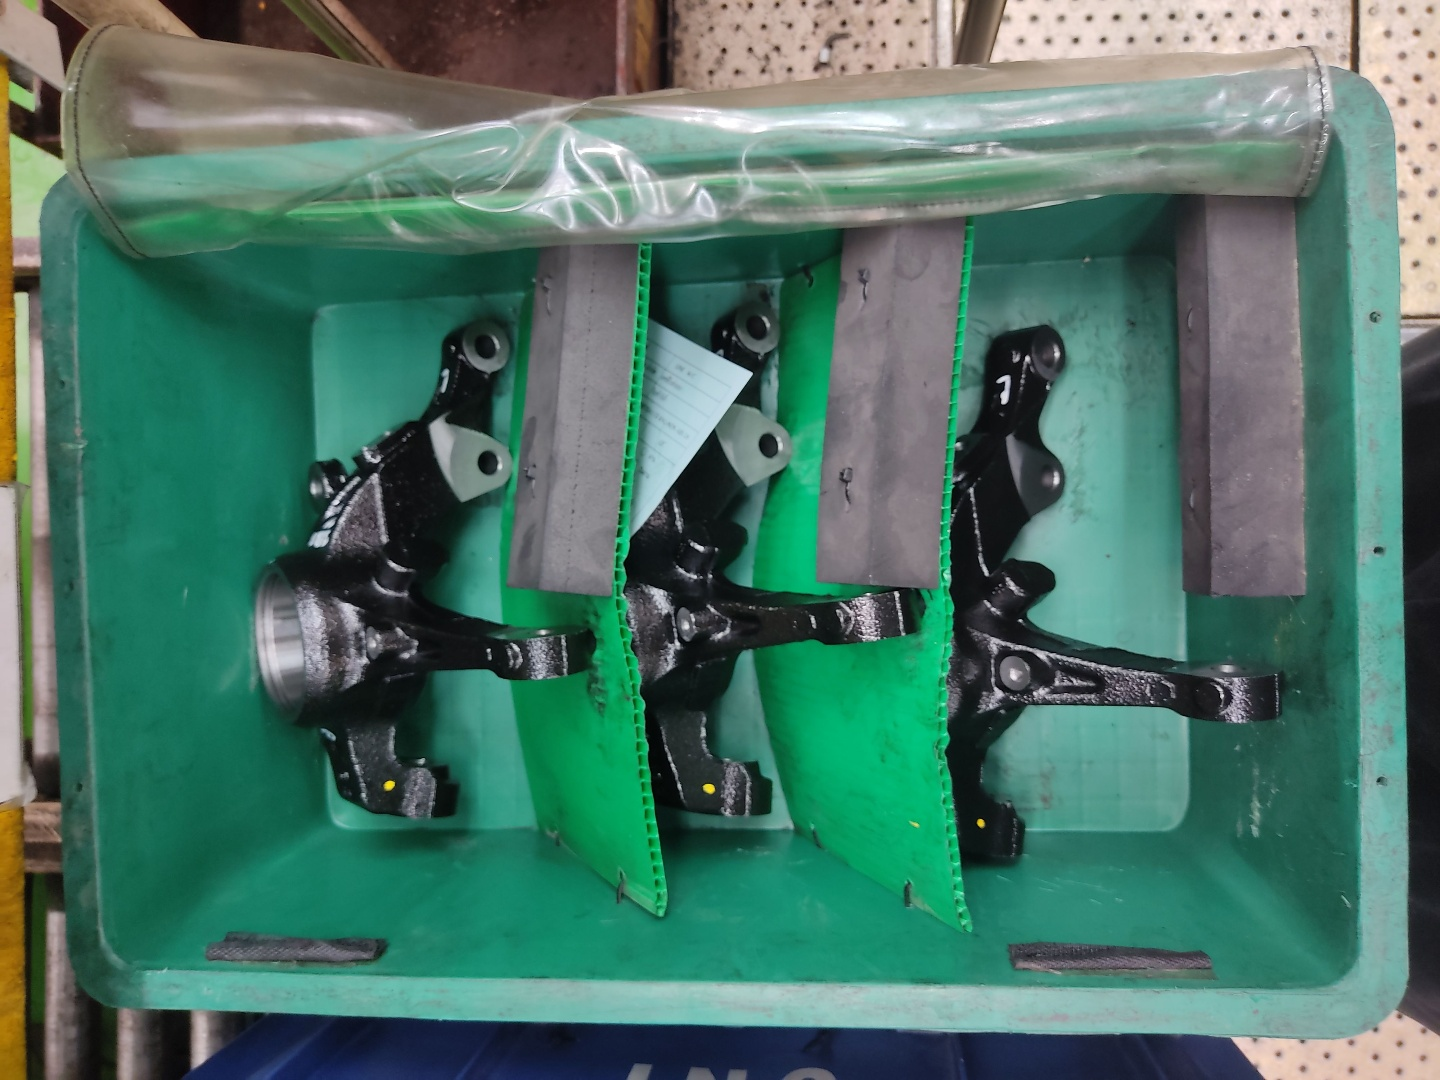non-lh: (951, 311, 1293, 878), (257, 307, 601, 857), (610, 296, 937, 834)
